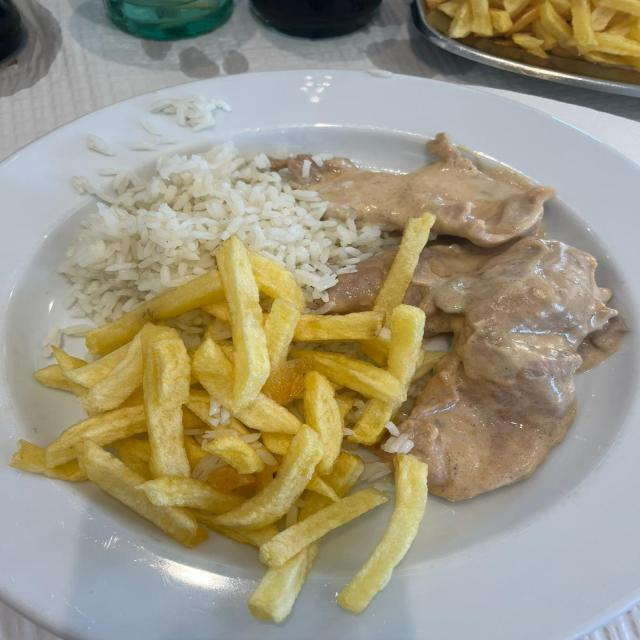french fries: (11, 214, 434, 622), (338, 452, 427, 612)
plate: (0, 50, 639, 640), (0, 70, 639, 640)
rice: (35, 308, 419, 592), (60, 145, 386, 324)
steaks with mushrooms: (279, 133, 626, 500), (326, 250, 394, 314)
